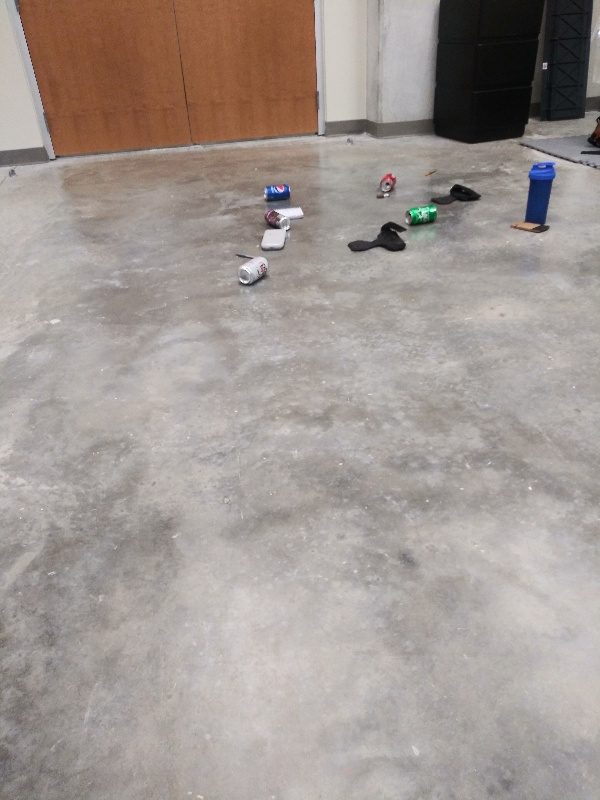can: (234, 253, 274, 287), (404, 201, 440, 230), (261, 208, 292, 231), (260, 183, 293, 201), (377, 172, 397, 194)
